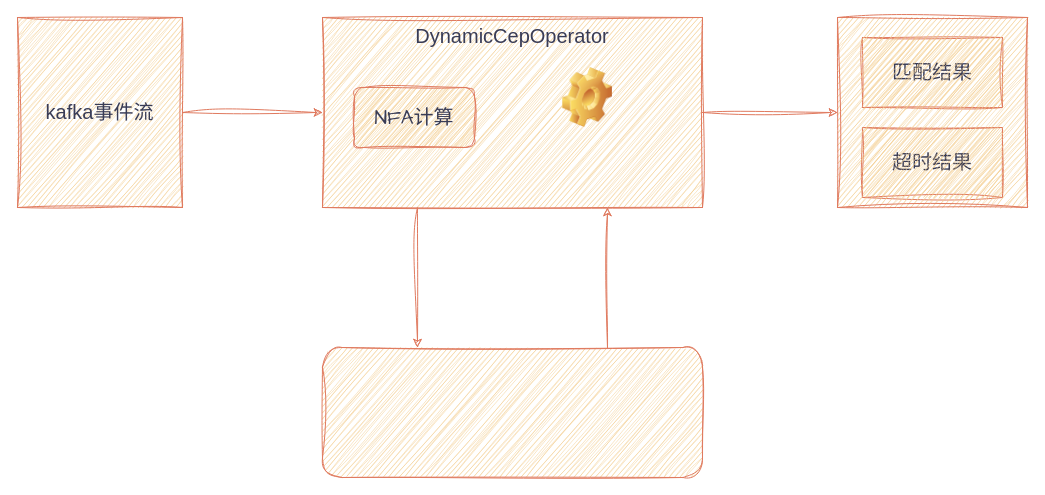
This 1045x495 diagram has some shape labels left out. The centre of each missing label's shape, as x and y in pixels:
State 缓存事件和部分匹配结果: the point at 512,412
动态配置需要匹配的模式: the point at 587,97
